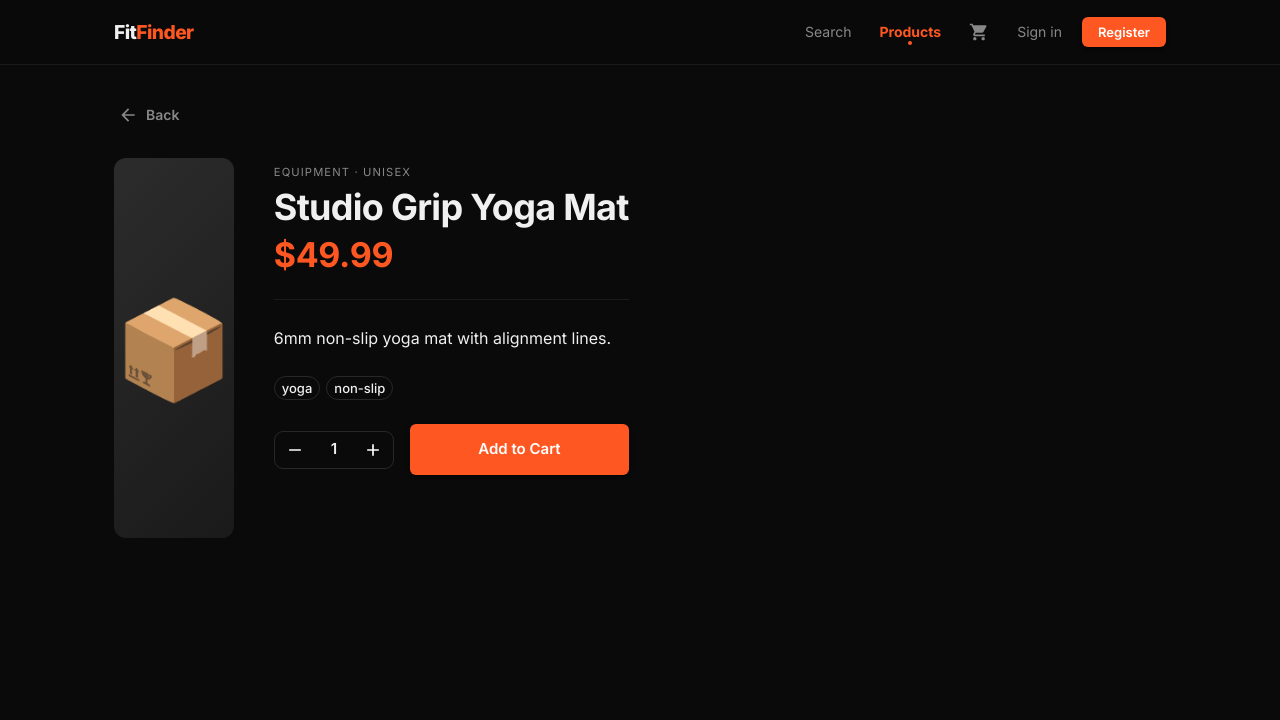
it: Product detail page › increments and decrements the quantity stepper
Expected: the text "1" is shown, [331,439,337,458]
What coordinates should you click on to do the following:
click the 3rd button
I would click on:
 (373, 450)
Its box is [353,432,393,468].
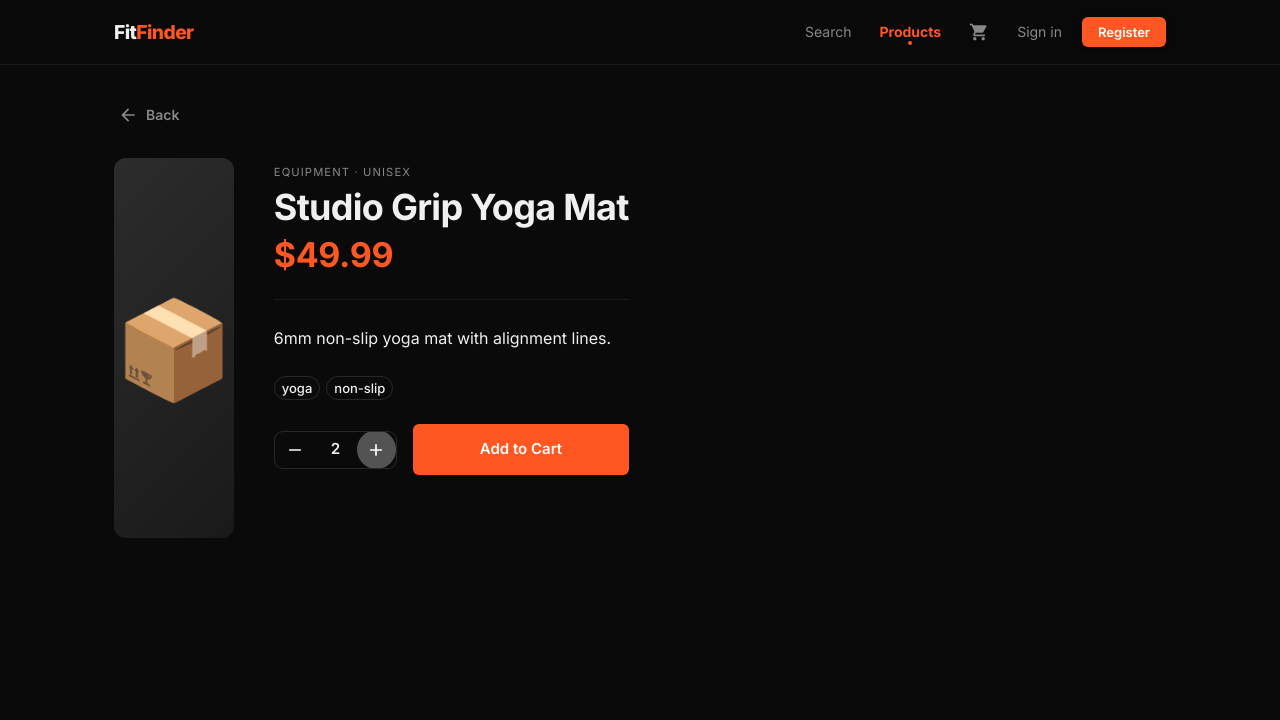
What coordinates should you click on to do the following:
click the 3rd button
I would click on:
 (376, 450)
Its box is [356,432,396,468].
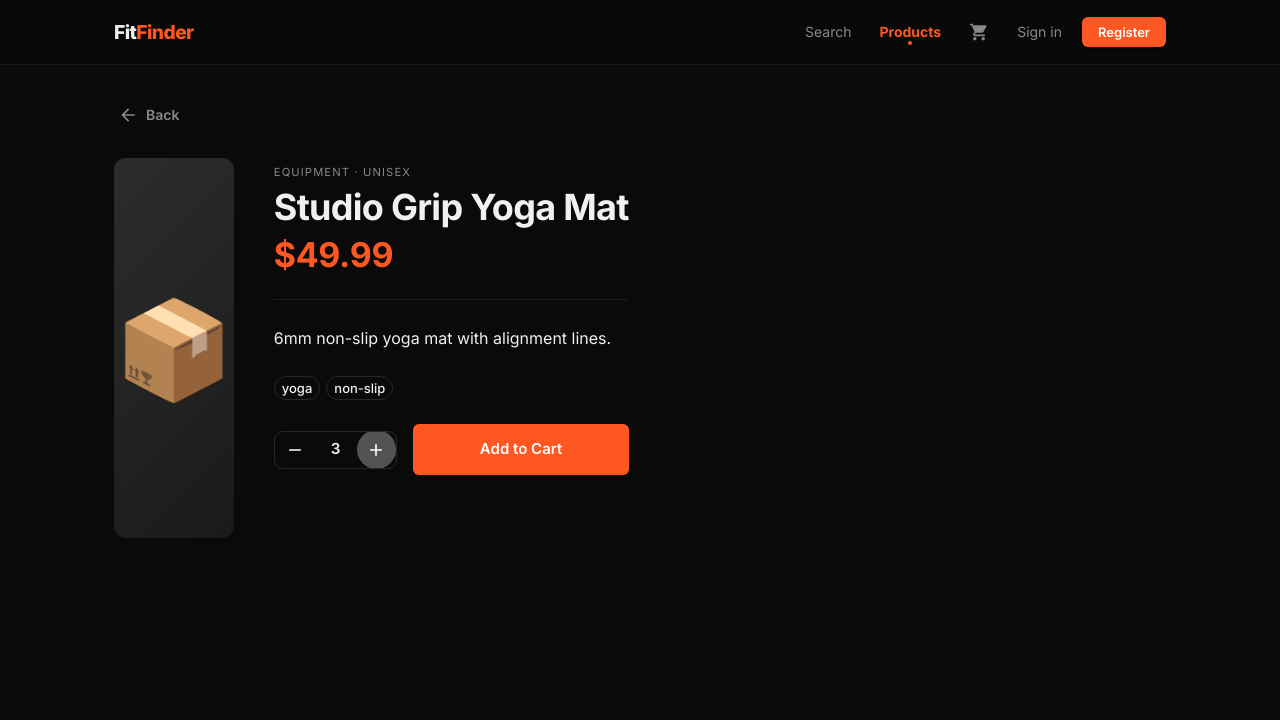
Expected: the text "3" is shown, [331,439,340,458]
What coordinates should you click on to do the following:
click the 2nd button
I would click on:
 (295, 450)
Its box is [275,432,315,468].
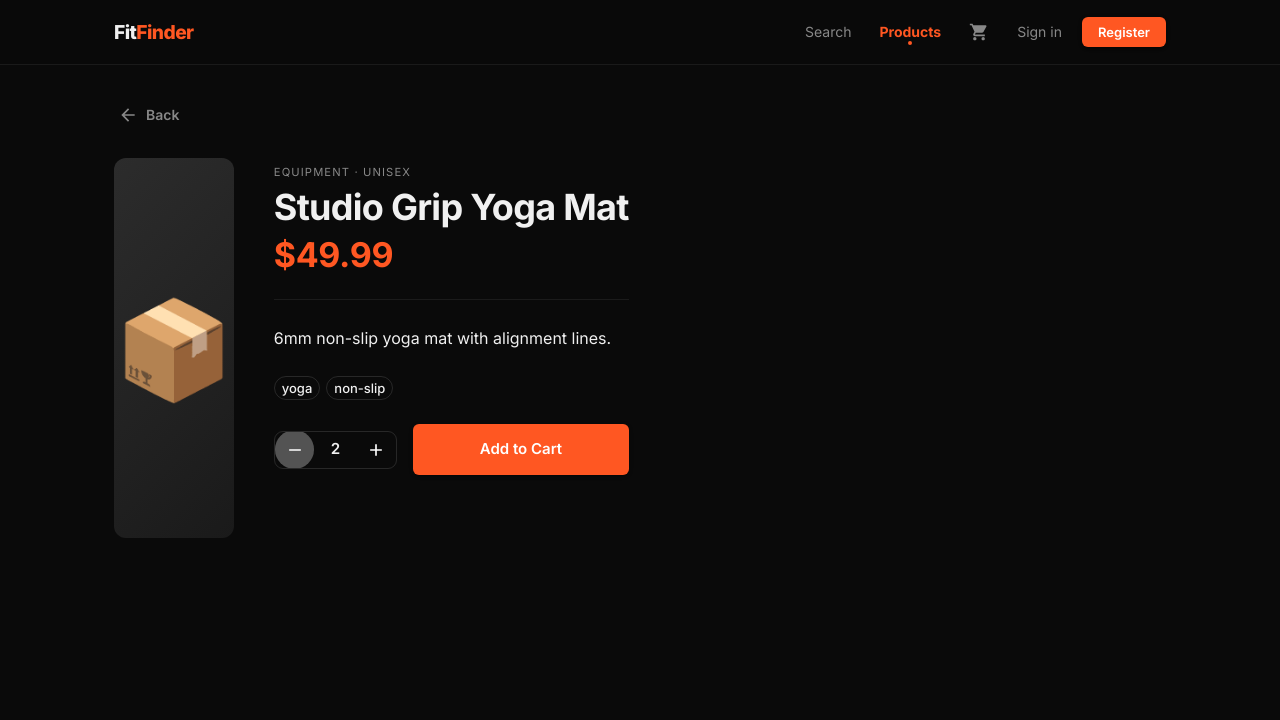
Expected: the text "2" is shown, [331,439,340,458]
